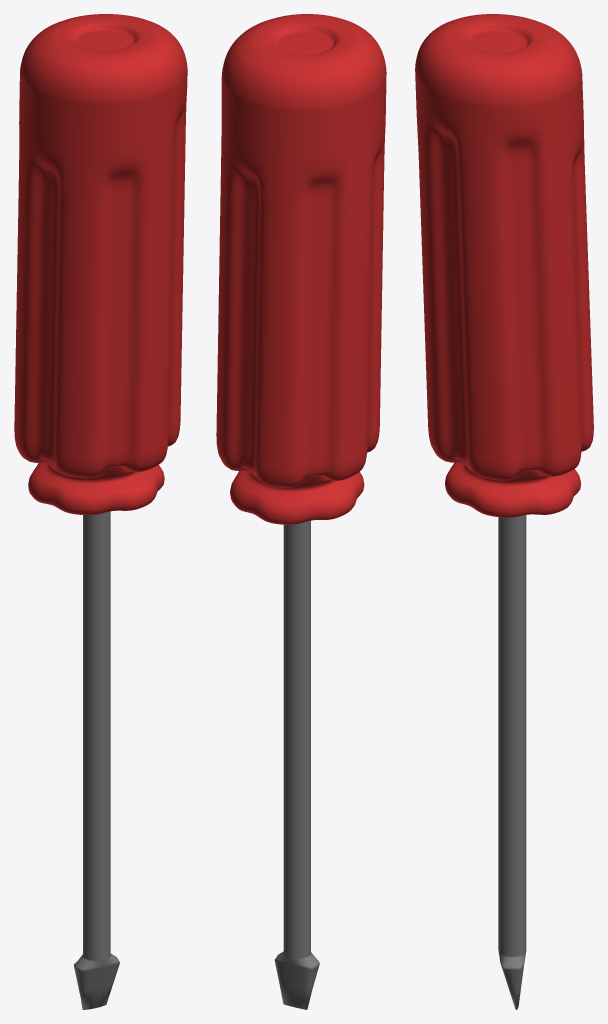
Rendered from Tools.fbx.
3 renders of one model, left to right at view 1: azimuth 30°, elevation 25°; view 2: azimuth 150°, elevation 25°; view 3: azimuth 270°, elevation 25°, orthographic.
Parts seen in each view (by area): view 1: Screwdriver; view 2: Screwdriver; view 3: Screwdriver.
Part boxes in pixels (x1,y1,x2,y2): Screwdriver: (14,14,187,1009); Screwdriver: (216,14,386,1009); Screwdriver: (415,14,593,1009).
Size of the model in its own units: 3.56 by 23.06 by 3.86.
